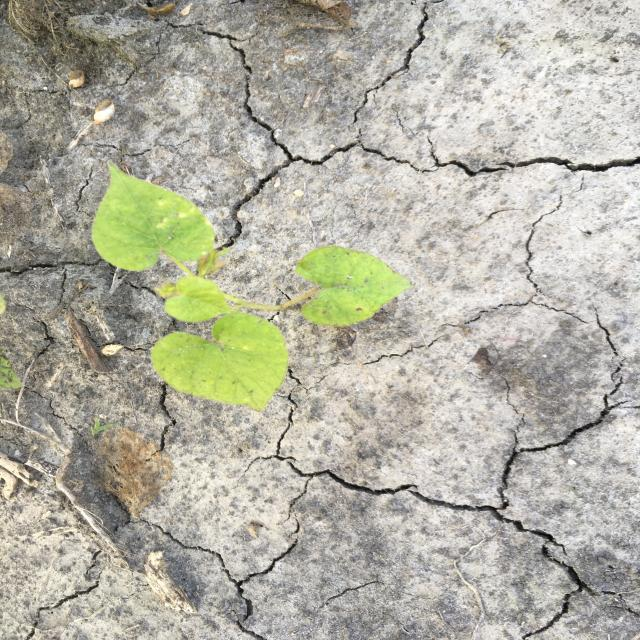MorningGlory: (88, 158, 417, 415)
